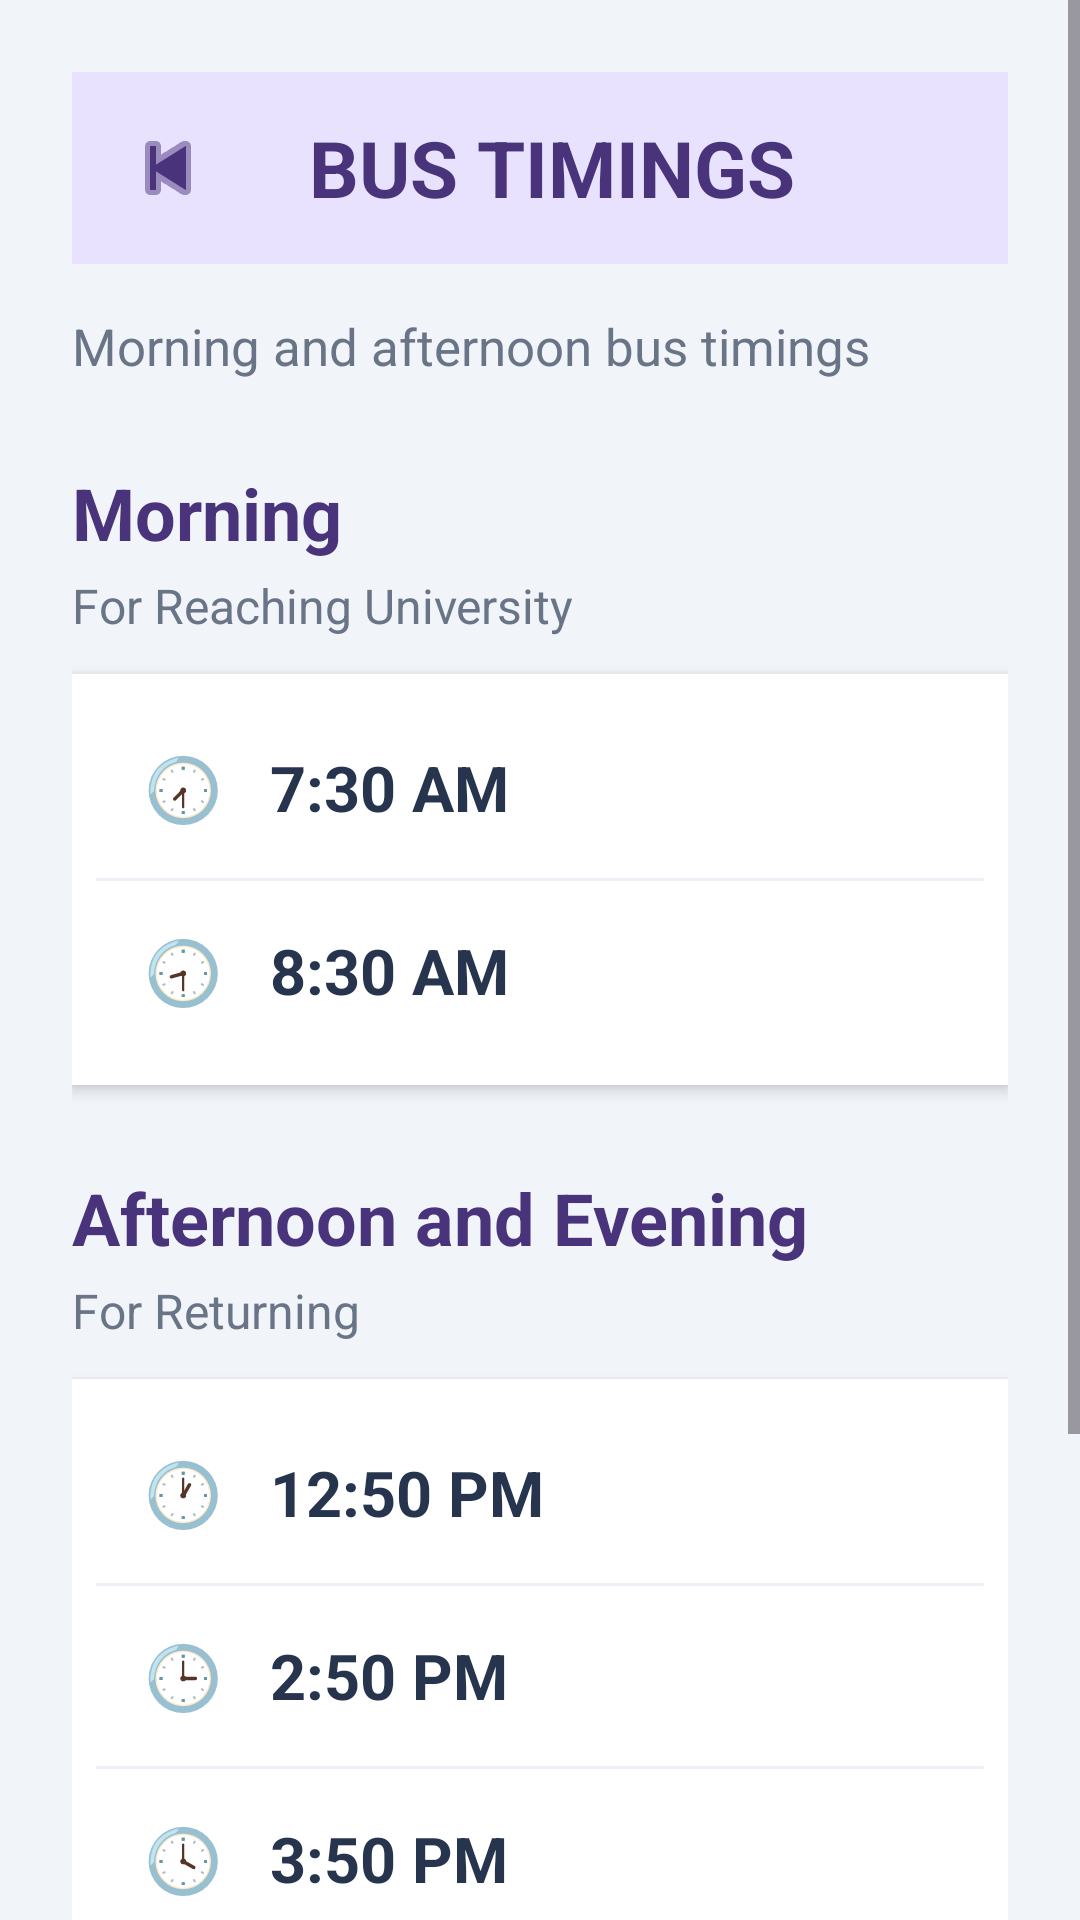

Where icons sit on this 1080px×1920px app screen, as [x1=x1, y1=y1, x2=x2, y2=y2]:
Back: [x1=145, y1=141, x2=191, y2=195]
